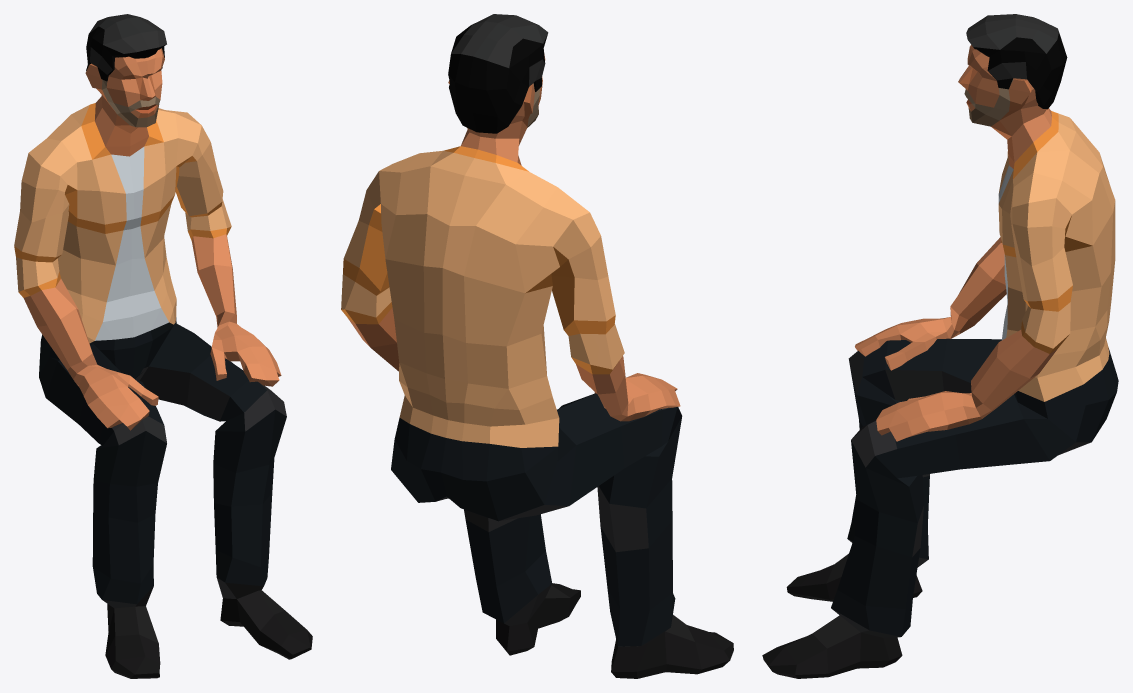
The picture shows the model from 3 angles, left to right: view 1: azimuth 30°, elevation 25°; view 2: azimuth 150°, elevation 25°; view 3: azimuth 270°, elevation 25°; orthographic projection. The views are drawn at different scales.
Parts seen in each view (by area): view 1: lpMaleG_sitting_peopleColors_0; view 2: lpMaleG_sitting_peopleColors_0; view 3: lpMaleG_sitting_peopleColors_0.
Boxes of the visible parts, <box> form: lpMaleG_sitting_peopleColors_0: <box>14,14,312,678</box>; lpMaleG_sitting_peopleColors_0: <box>341,14,733,678</box>; lpMaleG_sitting_peopleColors_0: <box>762,14,1118,678</box>.
Size of the model in its own units: 58.02 by 146 by 75.87.
